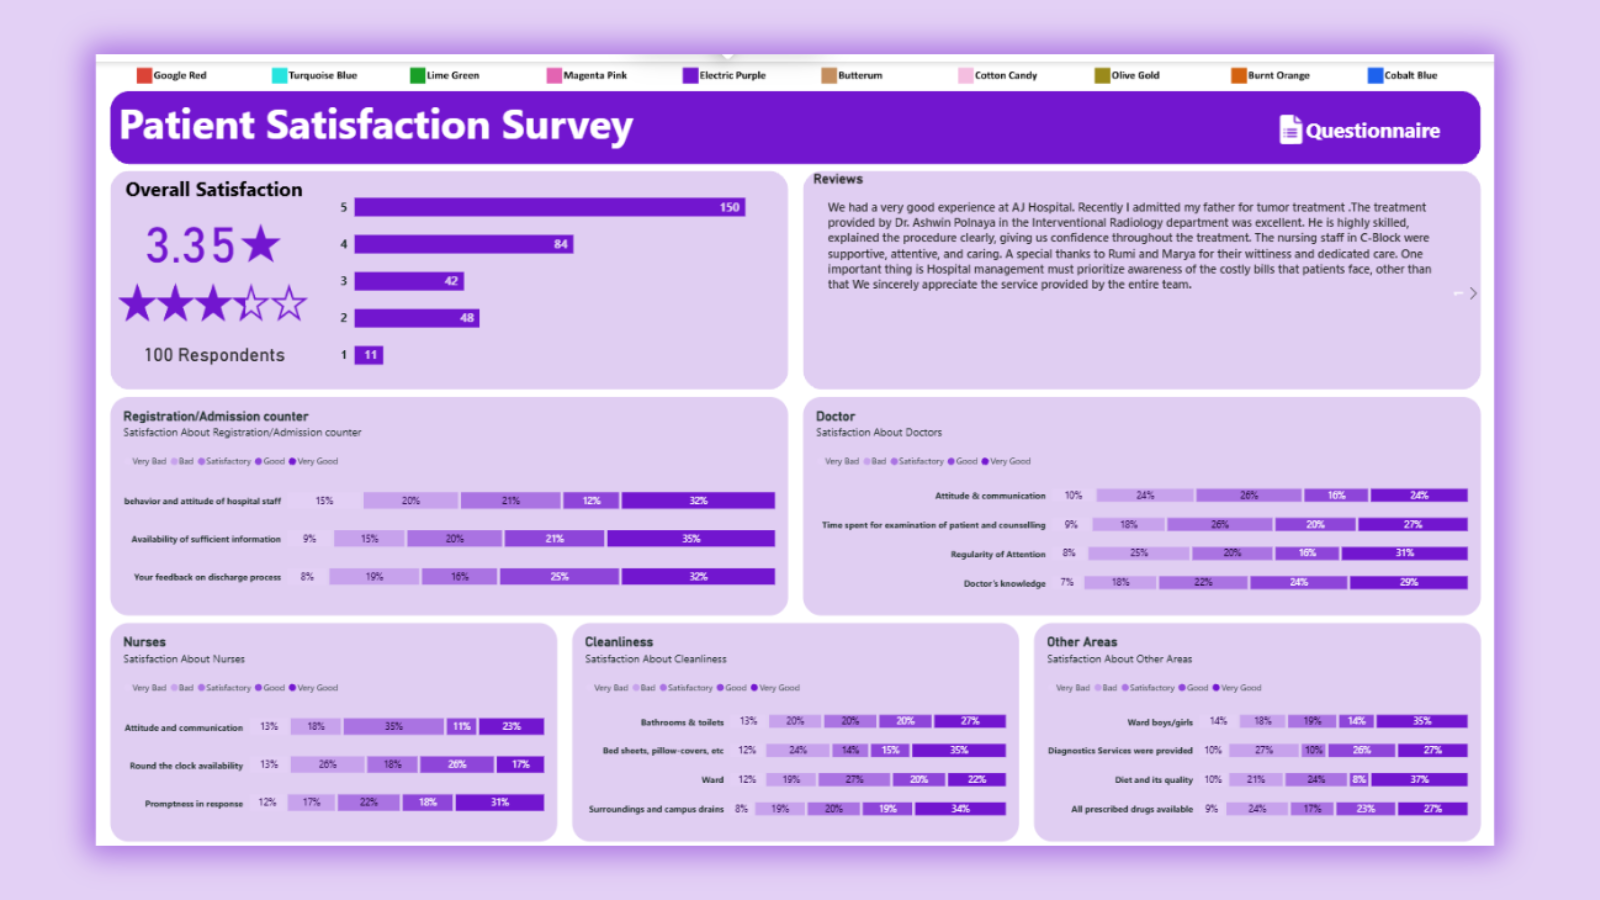

Layout of this report page (visuals, bound fields, positions):
{"tool":"powerbi","page":{"name":"Page 1","canvas":[1920,1080],"ordinal":0},"visuals":[{"type":"image","title":"Yellow Star","box":[33,272,260,80],"z":0,"group":"g3"},{"type":"cardVisual","title":"Respondents","fields":{"Data":["Z Measure Table.Tot_Pat"]},"box":[43,360,240,48],"z":0,"group":"g5"},{"type":"group","id":"g1","title":"Section Wise Graphs","box":[20,451,1880,619],"z":0},{"type":"hundredPercentStackedBarChart","title":"Doctor","fields":{"Category":["Short question List.Questions-Short"],"Y":["Z Measure Table.Count - Answer - VeryBad","Z Measure Table.Count - Answer - Bad","Z Measure Table.Count - Answer - Satisfactory","Z Measure Table.Count - Answer - Good","Z Measure Table.Count - Answer - VeryGood"]},"box":[970,451,930,300],"z":0,"group":"g4"},{"type":"group","id":"g2","title":"Bottom Graphs","box":[20,770,1880,300],"z":0,"group":"g1"},{"type":"hundredPercentStackedBarChart","title":"Other Areas","fields":{"Category":["Short question List.Questions-Short"],"Y":["Z Measure Table.Count - Answer - VeryBad","Z Measure Table.Count - Answer - Bad","Z Measure Table.Count - Answer - Satisfactory","Z Measure Table.Count - Answer - Good","Z Measure Table.Count - Answer - VeryGood"]},"box":[1287,770,613,300],"z":0,"group":"g2"},{"type":"cardVisual","title":"Reviews","fields":{"Data":["Min(Review Table.Reviews)"],"Rows":["Review Table.Sl"]},"box":[970,132,930,300],"z":1000},{"type":"group","id":"g3","title":"Star Graph","box":[33,272,260,80],"z":1000,"group":"g5"},{"type":"clusteredBarChart","fields":{"Y":["Z Measure Table.Diff New"]},"box":[33,272,260,80],"z":1000,"group":"g3"},{"type":"group","id":"g4","title":"Top Graphs","box":[20,451,1880,300],"z":1000,"group":"g1"},{"type":"hundredPercentStackedBarChart","title":"Registration/Admission counter","fields":{"Category":["Short question List.Questions-Short"],"Y":["Z Measure Table.Count - Answer - VeryBad","Z Measure Table.Count - Answer - Bad","Z Measure Table.Count - Answer - Satisfactory","Z Measure Table.Count - Answer - Good","Z Measure Table.Count - Answer - VeryGood"]},"box":[20,451,930,300],"z":1000,"group":"g4"},{"type":"hundredPercentStackedBarChart","title":"Cleanliness","fields":{"Category":["Short question List.Questions-Short"],"Y":["Z Measure Table.Count - Answer - VeryBad","Z Measure Table.Count - Answer - Bad","Z Measure Table.Count - Answer - Satisfactory","Z Measure Table.Count - Answer - Good","Z Measure Table.Count - Answer - VeryGood"]},"box":[653,770,613,300],"z":1000,"group":"g2"},{"type":"cardVisual","title":"Overall Satisfaction","fields":{"Data":["Z Measure Table.Overall Satisfaction"]},"box":[23,136,280,144],"z":2000,"group":"g5"},{"type":"clusteredBarChart","title":"Star Wise Graph","fields":{"Category":["Form Responses 1.Answers"],"Y":["Sum(Form Responses 1.Answers)"]},"box":[320,136,624,296],"z":2000},{"type":"image","title":"Blank Star","box":[33,272,260,80],"z":2000,"group":"g3"},{"type":"hundredPercentStackedBarChart","title":"Nurses","fields":{"Category":["Short question List.Questions-Short"],"Y":["Z Measure Table.Count - Answer - VeryBad","Z Measure Table.Count - Answer - Bad","Z Measure Table.Count - Answer - Satisfactory","Z Measure Table.Count - Answer - Good","Z Measure Table.Count - Answer - VeryGood"]},"box":[20,770,613,300],"z":2000,"group":"g2"},{"type":"group","id":"g5","title":"Group 1","box":[23,136,280,272],"z":3000},{"type":"textbox","box":[32,16,736,88],"z":4000},{"type":"actionButton","box":[1552,24,304,80],"z":5000}]}

Visuals, with their boxes in screenshot pixels (x1, y1, x2, y2), scaled from the page's 1920x1080 canvas onto the 1600x900 screenshot:
"Yellow Star" image: region(28, 227, 244, 293)
"Respondents" cardVisual: region(36, 300, 236, 340)
"Section Wise Graphs" group: region(17, 376, 1583, 892)
"Doctor" hundredPercentStackedBarChart: region(808, 376, 1583, 626)
"Bottom Graphs" group: region(17, 642, 1583, 892)
"Other Areas" hundredPercentStackedBarChart: region(1072, 642, 1583, 892)
"Reviews" cardVisual: region(808, 110, 1583, 360)
"Star Graph" group: region(28, 227, 244, 293)
clusteredBarChart - Z Measure Table.Diff New: region(28, 227, 244, 293)
"Top Graphs" group: region(17, 376, 1583, 626)
"Registration/Admission counter" hundredPercentStackedBarChart: region(17, 376, 792, 626)
"Cleanliness" hundredPercentStackedBarChart: region(544, 642, 1055, 892)
"Overall Satisfaction" cardVisual: region(19, 113, 252, 233)
"Star Wise Graph" clusteredBarChart: region(267, 113, 787, 360)
"Blank Star" image: region(28, 227, 244, 293)
"Nurses" hundredPercentStackedBarChart: region(17, 642, 528, 892)
"Group 1" group: region(19, 113, 252, 340)
textbox: region(27, 13, 640, 87)
actionButton: region(1293, 20, 1547, 87)
